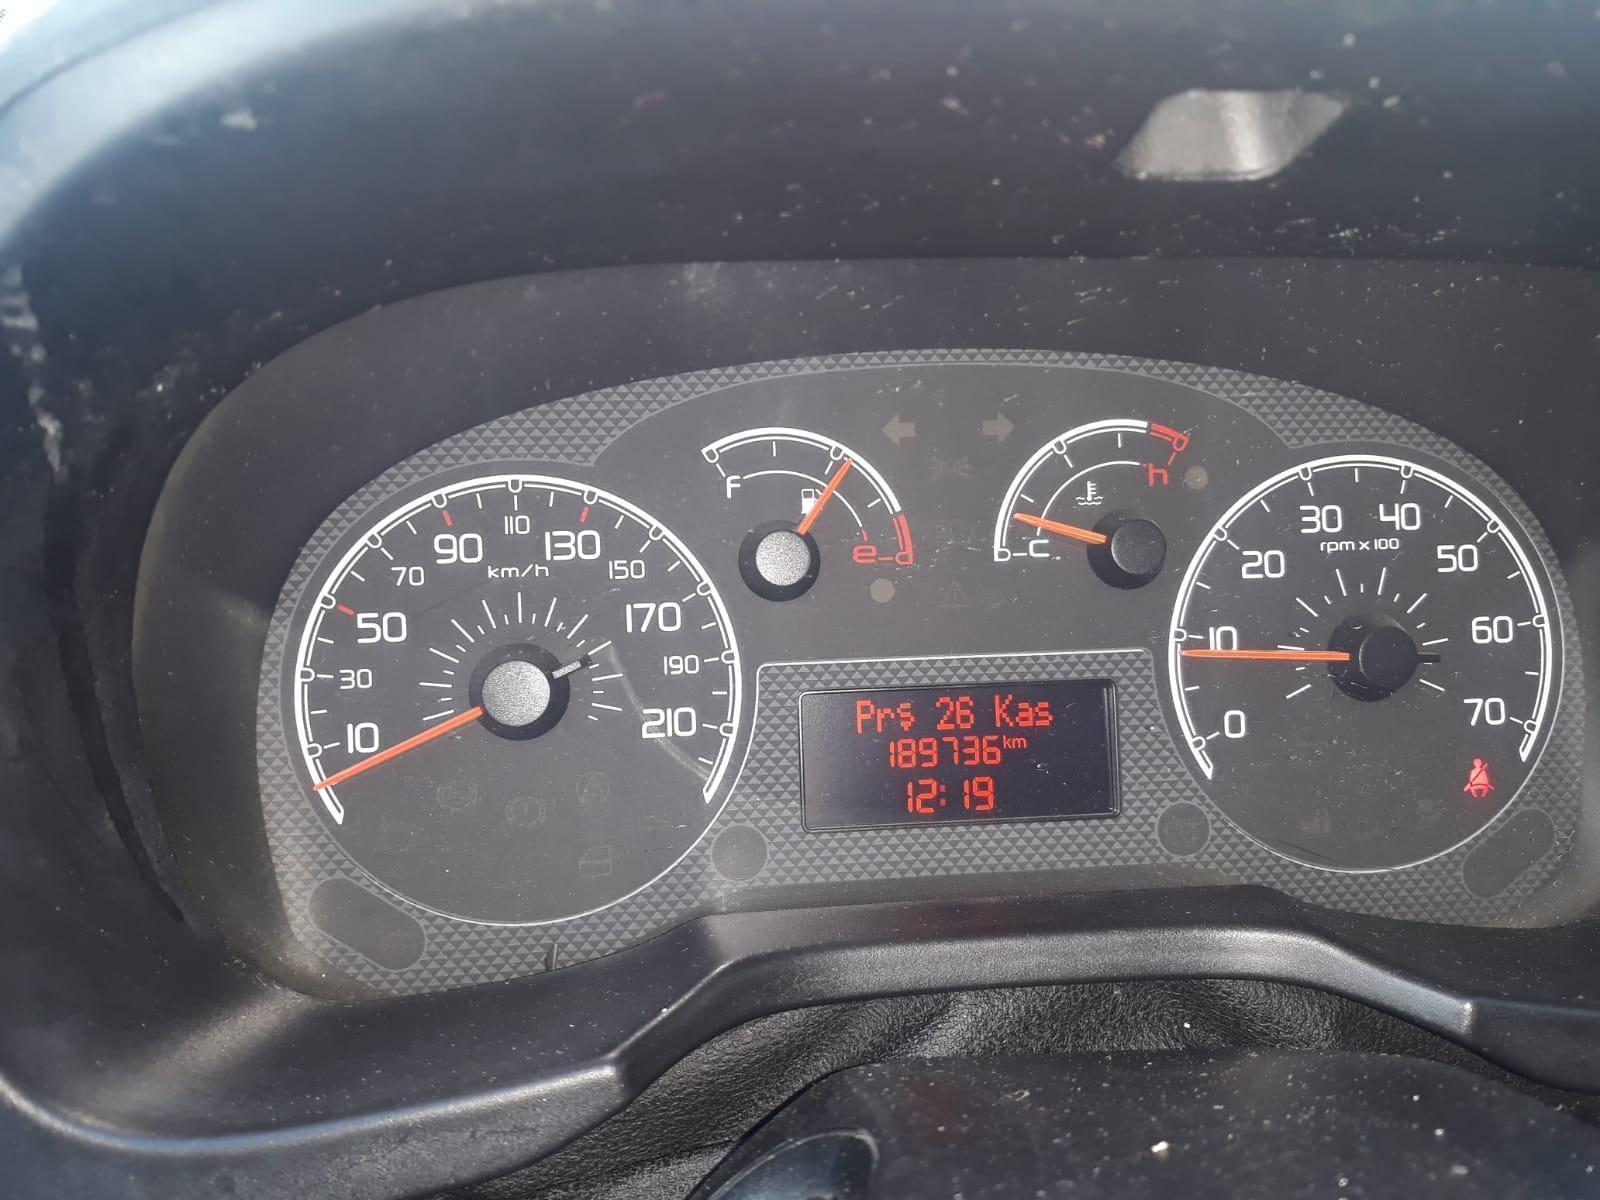1: (963, 778, 970, 811), (906, 782, 913, 813), (888, 740, 894, 768)
2: (915, 778, 936, 813), (934, 696, 955, 730)
3: (961, 735, 980, 765)
6: (955, 696, 974, 729), (981, 735, 1002, 765)
7: (941, 736, 959, 765)
8: (896, 737, 916, 768)
9: (971, 775, 993, 811), (918, 737, 939, 766)
X: (993, 693, 1015, 729), (855, 700, 876, 734), (894, 702, 915, 731), (876, 707, 894, 734), (1034, 701, 1053, 726), (1015, 702, 1033, 727), (939, 783, 946, 807), (1012, 737, 1026, 747), (1002, 734, 1010, 749)
odometer: (797, 677, 1121, 834)
